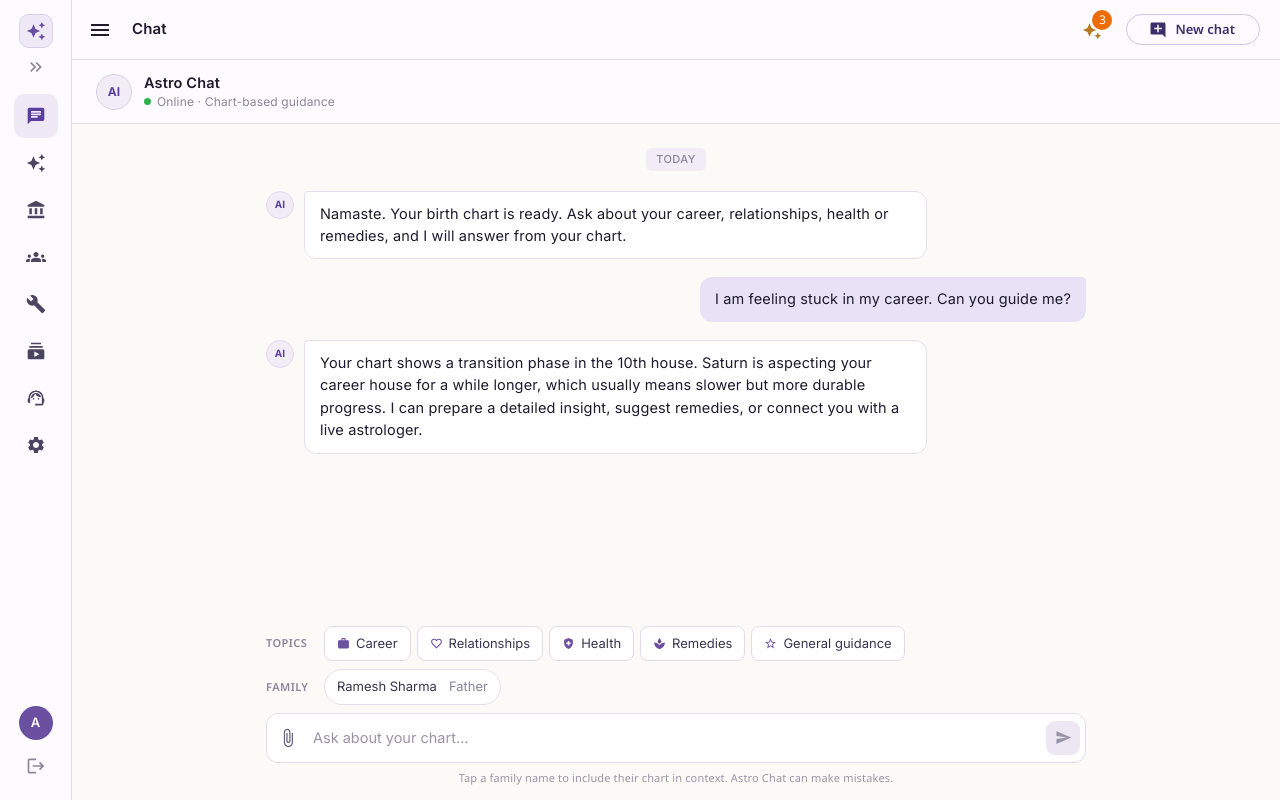
Test: memory page is reachable from header spark and lists remembered details
Click the button "3": (1092, 30) [1074,12,1110,48]
(page scrolled)
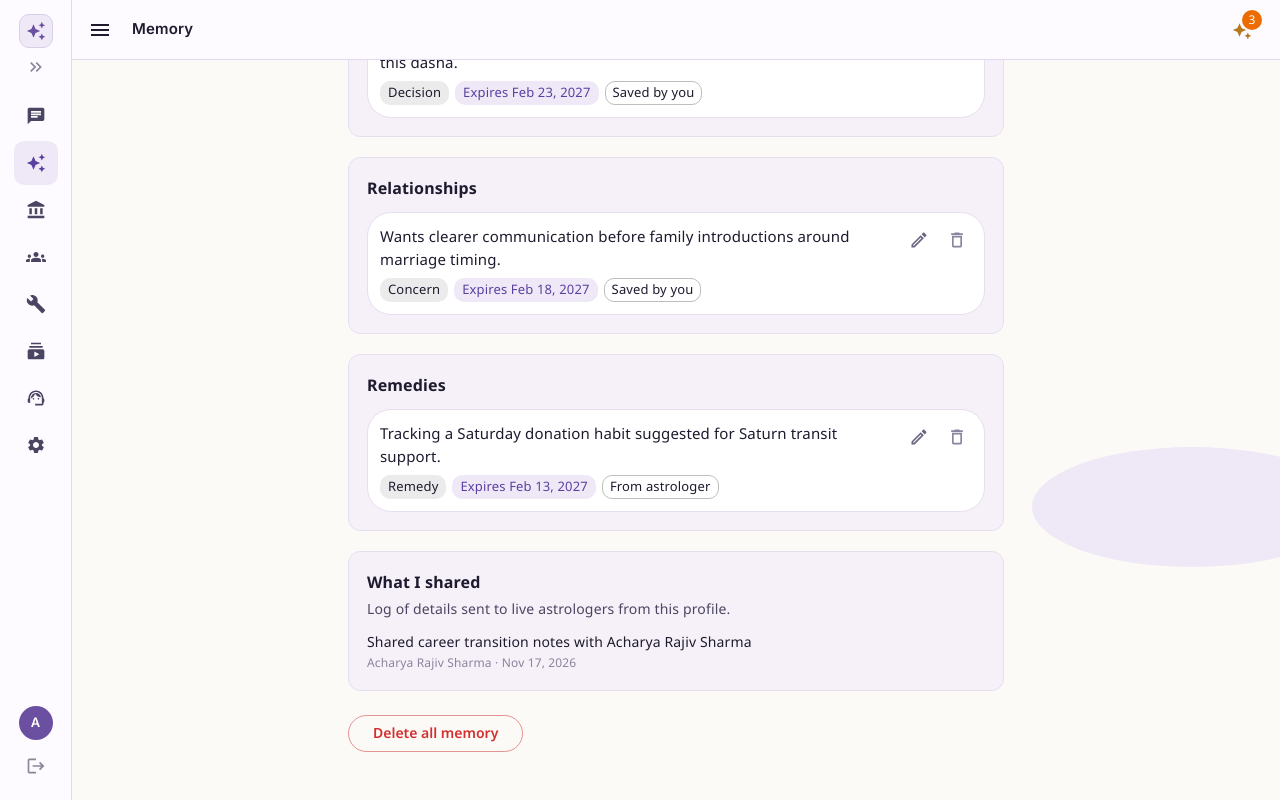
Expected: the heading "What I shared" is shown, [367,571,480,593]
Expected: the button "Delete all memory" is shown, [348,715,523,752]
